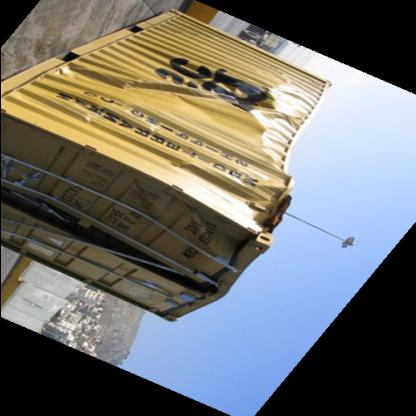Damage: (14, 174, 216, 296), (60, 59, 304, 157)
